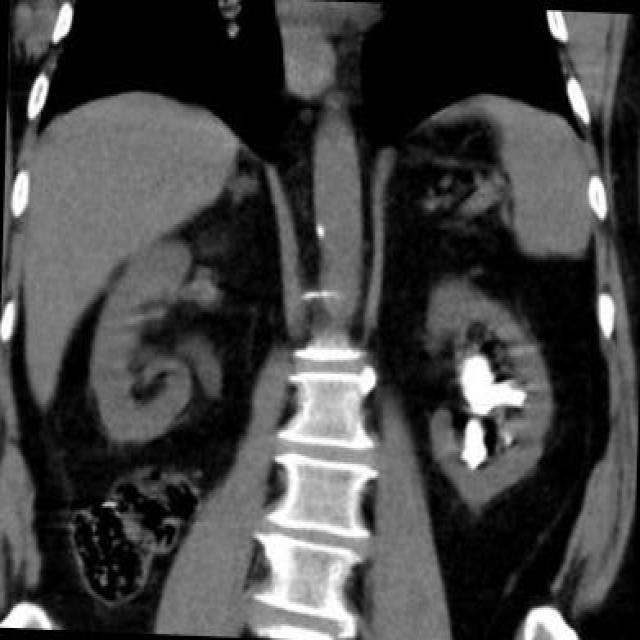Tas_Var: (458, 374, 534, 416), (459, 413, 490, 479), (460, 349, 493, 391), (499, 429, 516, 447)
